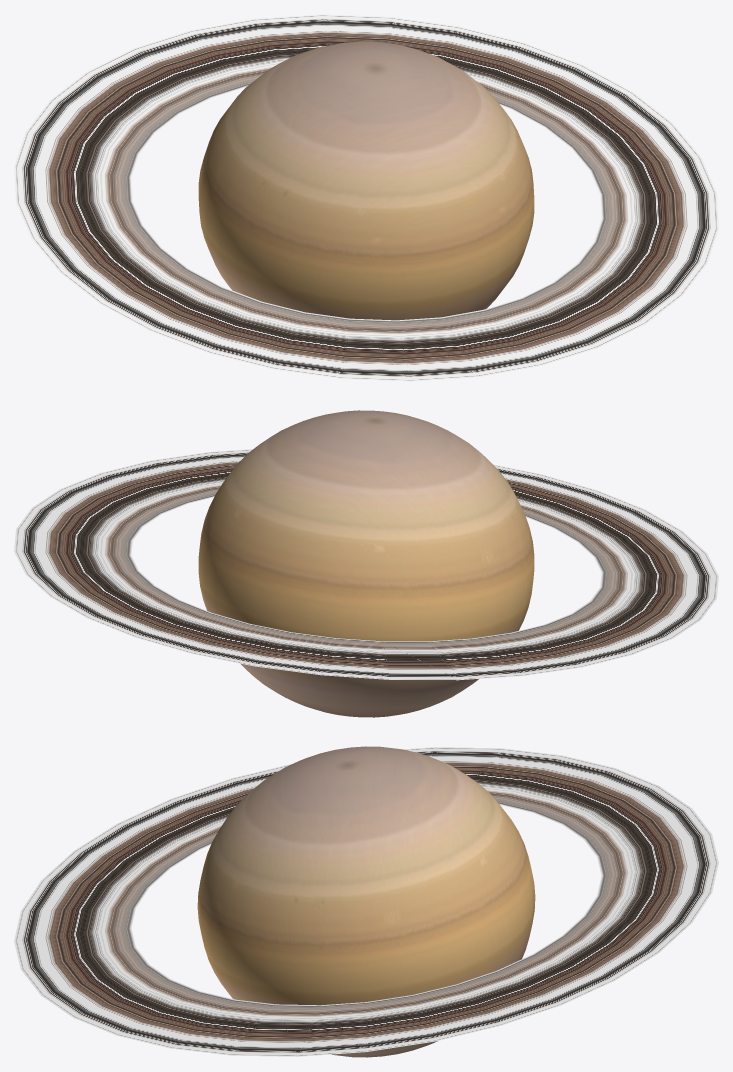
The model's file is saturn.obj.
3 renders of one model, top to bottom at view 1: azimuth 30°, elevation 25°; view 2: azimuth 150°, elevation 25°; view 3: azimuth 270°, elevation 25°, orthographic.
Parts seen in each view (by area): view 1: Saturn_Rings_Circle, Saturn_Planet_Sphere; view 2: Saturn_Planet_Sphere, Saturn_Rings_Circle; view 3: Saturn_Rings_Circle, Saturn_Planet_Sphere.
Boxes of the visible parts, <box> form: Saturn_Rings_Circle: <box>14,14,718,381</box>; Saturn_Planet_Sphere: <box>198,41,534,320</box>; Saturn_Planet_Sphere: <box>198,410,534,717</box>; Saturn_Rings_Circle: <box>14,449,718,680</box>; Saturn_Rings_Circle: <box>14,747,718,1056</box>; Saturn_Planet_Sphere: <box>197,746,535,1057</box>.
Bounding box in the file's own units: 4.2 × 1.8 × 4.17.
